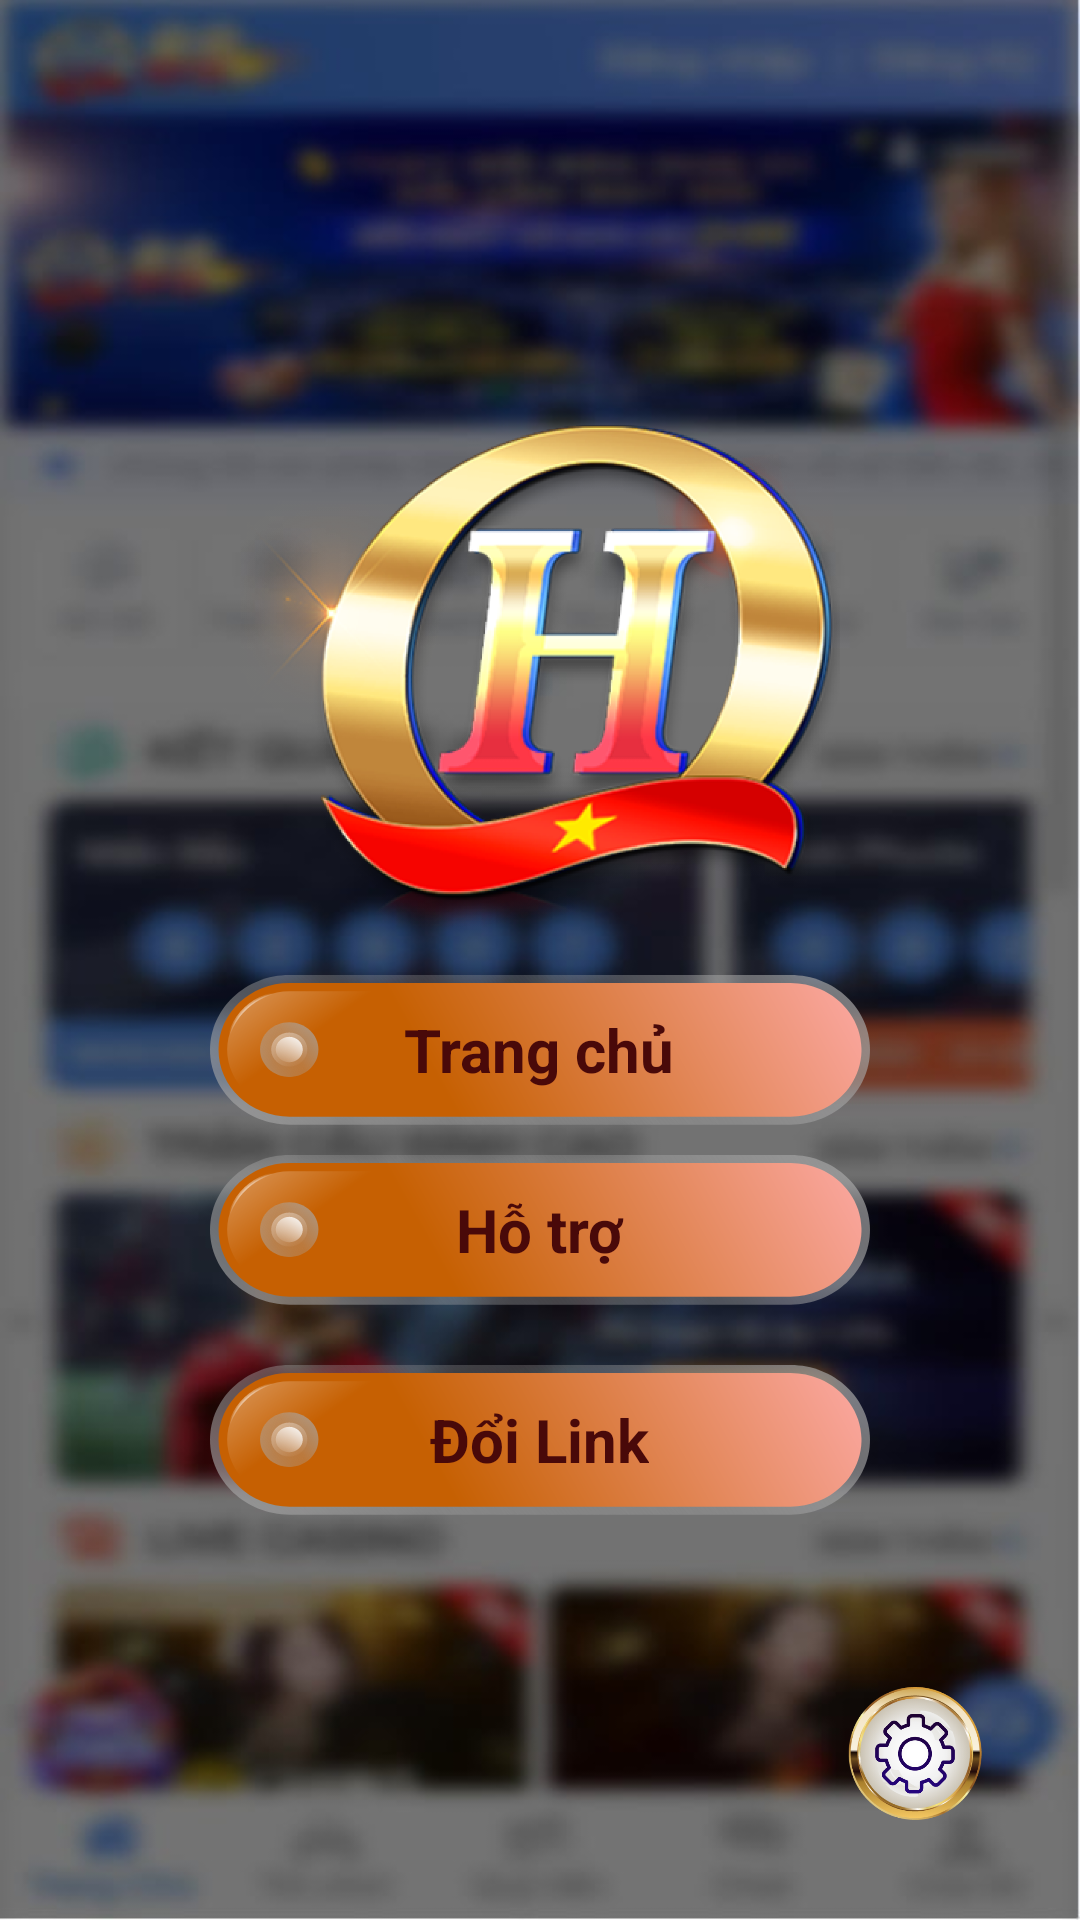

Point at icon controls on the screen. Image size 1080px×1920px, points as point (x, y).
setup: point (915, 1755)
